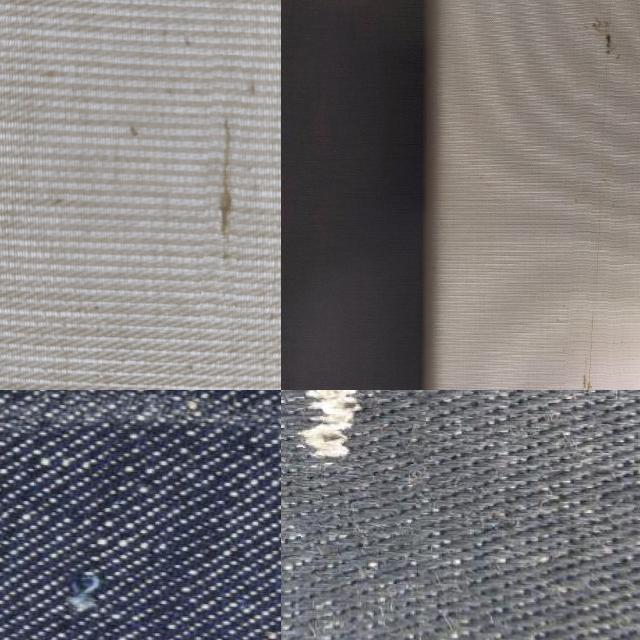Thread_other: (567, 0, 633, 390), (281, 390, 430, 559), (0, 478, 133, 640), (202, 55, 254, 320)
